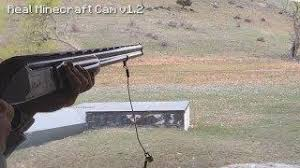Gun: (43, 38, 142, 103)
